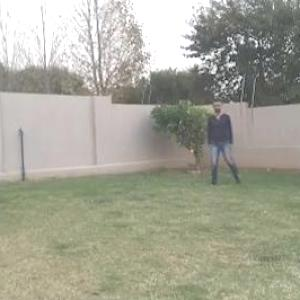follow: (209, 98, 230, 185)
